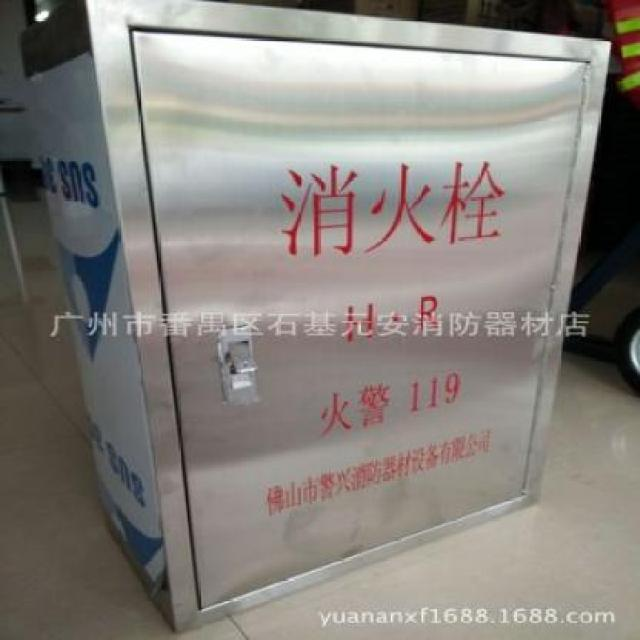firehydrant: (14, 0, 619, 640)
